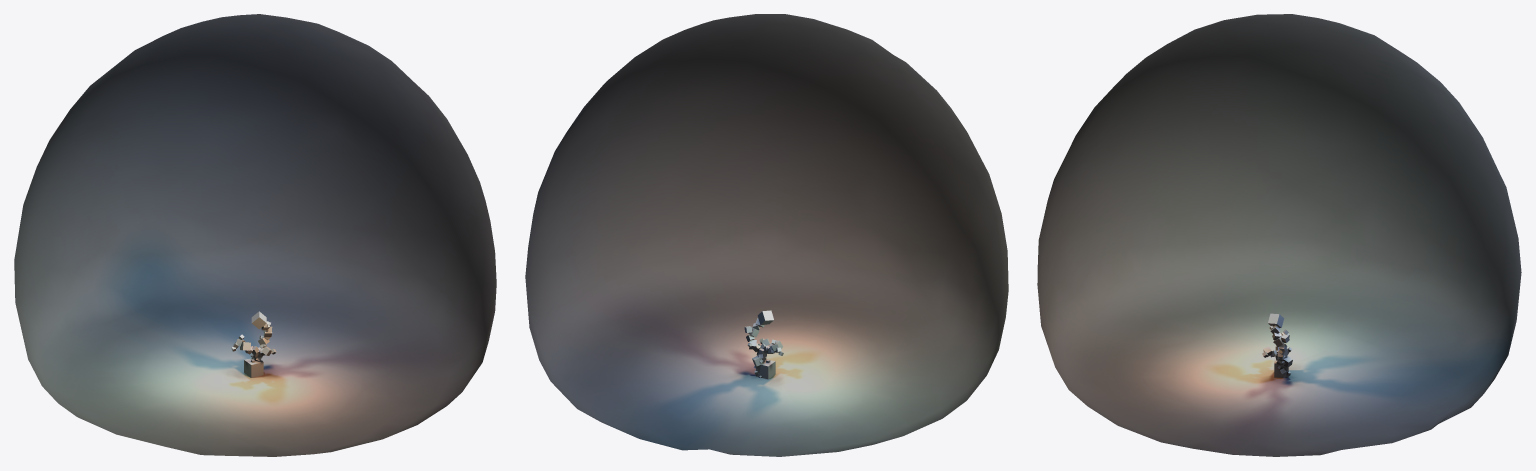
Rendered from cubes.gltf.
3 views of the same model, side by side, from view 1: azimuth 30°, elevation 25°; view 2: azimuth 150°, elevation 25°; view 3: azimuth 270°, elevation 25° (orthographic).
Parts seen in each view (by area): view 1: wall; view 2: wall; view 3: wall.
Boxes of the visible parts, box(x1,y1,x2,y2) form: wall: box(14, 14, 496, 456); wall: box(525, 14, 1008, 456); wall: box(1037, 14, 1521, 456).
Bounding box in the file's own units: 9.58 × 7.42 × 9.6.
Materials: 3 (3 with a texture image).
